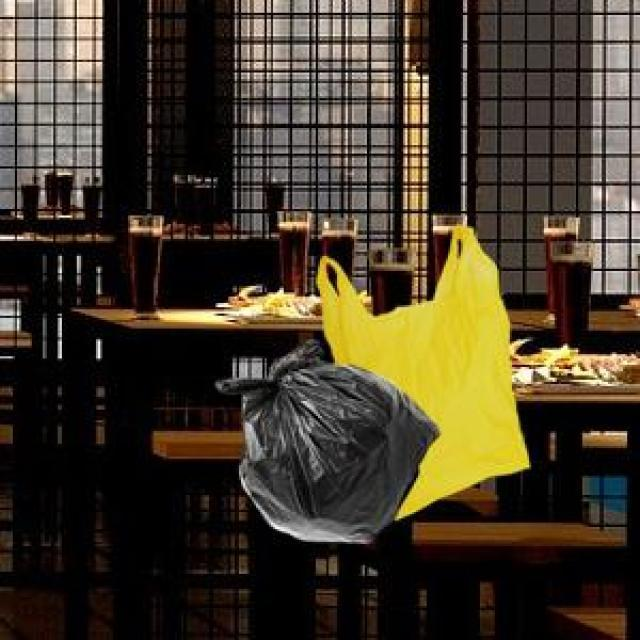miscellaneous trash: (212, 335, 435, 538)
